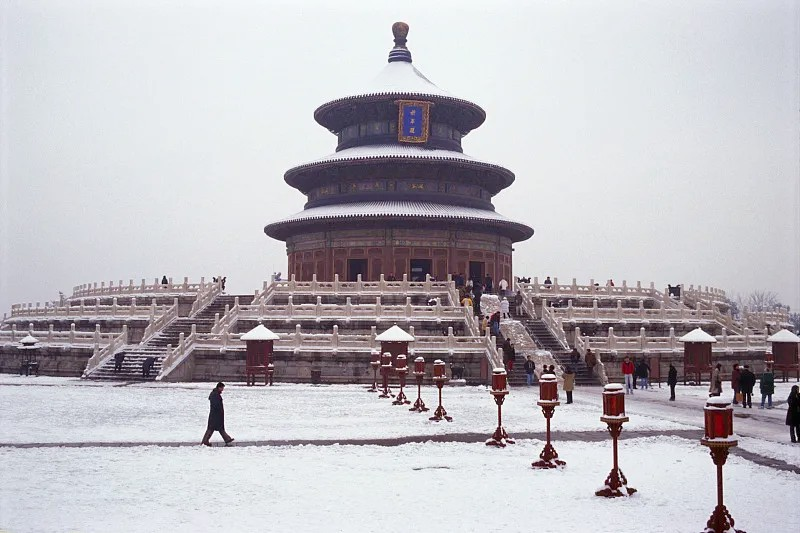Heaven: (262, 22, 536, 295)
